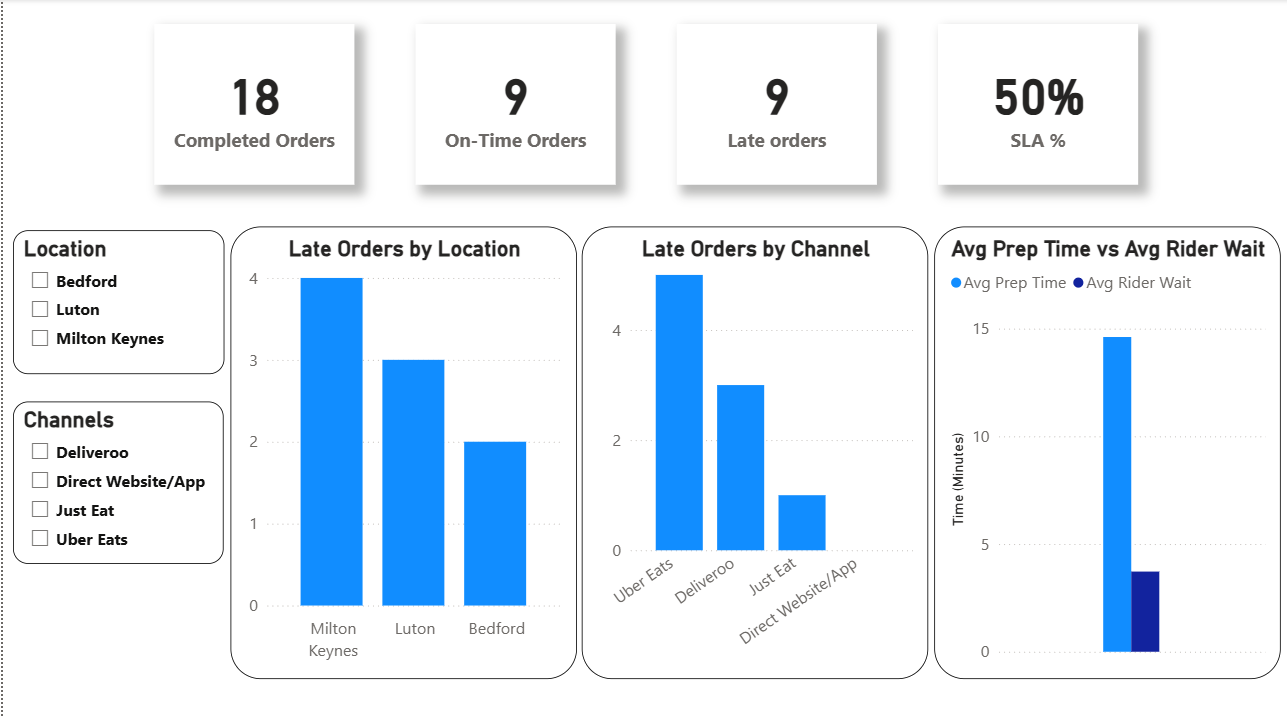

The dashboard page shown, as its layout file describes it:
{"tool":"powerbi","page":{"name":"Delivery SLA & Operations","canvas":[1280,720],"ordinal":1},"visuals":[{"type":"card","fields":{"Values":["Orders.Total Orders (Completed)"]},"box":[150,25,199.6,159.7],"z":0},{"type":"card","fields":{"Values":["Orders.On-Time Orders"]},"box":[410,25,199.6,159.7],"z":1000},{"type":"card","fields":{"Values":["Orders.Late orders"]},"box":[670,25,199.6,159.7],"z":2000},{"type":"card","fields":{"Values":["Orders.SLA %"]},"box":[930,25,199.6,159.7],"z":3000},{"type":"clusteredColumnChart","title":"Late Orders by Location","fields":{"Category":["Locations.LocationName"],"Y":["Orders.Late orders"]},"box":[226.1,226.4,345,450],"z":4000},{"type":"clusteredColumnChart","title":"Late Orders by Channel","fields":{"Category":["Channels.ChannelName"],"Y":["Orders.Late orders"]},"box":[576.4,226.4,345,450],"z":5000},{"type":"clusteredColumnChart","title":"Avg Prep Time vs Avg Rider Wait","fields":{"Y":["Delivery_Performance.Avg Prep Time","Delivery_Performance.Avg Rider Wait"]},"box":[926.7,226.4,345,450],"z":6000},{"type":"slicer","title":"Location","fields":{"Values":["Locations.LocationName"]},"box":[9.2,229.1,210.7,143.5],"z":7000},{"type":"slicer","title":"Channels","fields":{"Values":["Channels.ChannelName"]},"box":[10.5,384.5,209.4,162],"z":8000}]}

Visuals, with their boxes in screenshot pixels (x1, y1, x2, y2), scaled from the page's 1280x720 canvas onto the 1287x718 screenshot:
card - Orders.Total Orders (Completed): rect(151, 25, 352, 184)
card - Orders.On-Time Orders: rect(412, 25, 613, 184)
card - Orders.Late orders: rect(674, 25, 874, 184)
card - Orders.SLA %: rect(935, 25, 1136, 184)
"Late Orders by Location" clusteredColumnChart: rect(227, 226, 574, 675)
"Late Orders by Channel" clusteredColumnChart: rect(580, 226, 926, 675)
"Avg Prep Time vs Avg Rider Wait" clusteredColumnChart: rect(932, 226, 1279, 675)
"Location" slicer: rect(9, 228, 221, 372)
"Channels" slicer: rect(11, 383, 221, 545)
